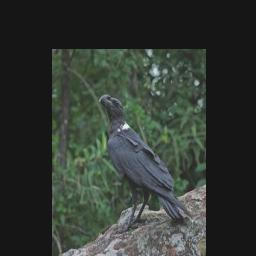Crow: (97, 92, 192, 234)
